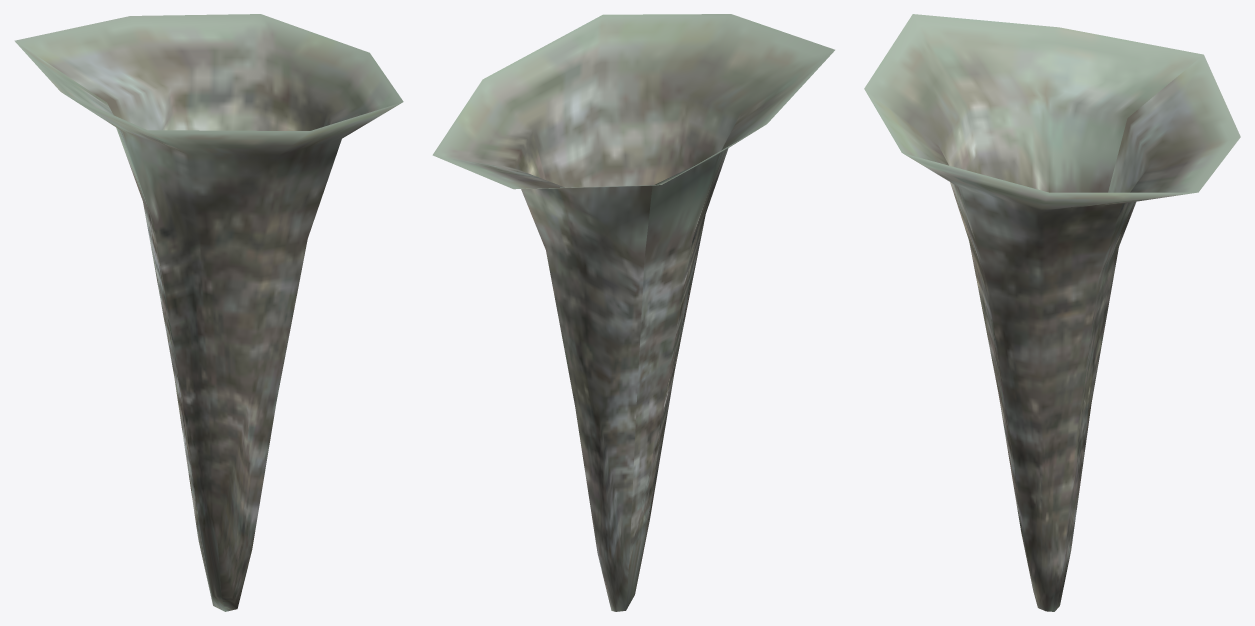
Rendered from TROLLHOLE02_PS-MAINSTALAG08.fbx.
3 views of the same model, side by side, from view 1: azimuth 30°, elevation 25°; view 2: azimuth 150°, elevation 25°; view 3: azimuth 270°, elevation 25° (orthographic). The views are drawn at different scales.
Visible parts, largest first — view 1: TROLLHOLE02_PS-MAINSTALAG08; view 2: TROLLHOLE02_PS-MAINSTALAG08; view 3: TROLLHOLE02_PS-MAINSTALAG08.
Boxes of the visible parts, x1,y1,x2,y2 form: TROLLHOLE02_PS-MAINSTALAG08: (14,14,403,611); TROLLHOLE02_PS-MAINSTALAG08: (432,14,834,611); TROLLHOLE02_PS-MAINSTALAG08: (864,14,1240,611).
Bounding box in the file's own units: 23992 × 43132 × 27938.
Materials: 1 (1 with a texture image).
